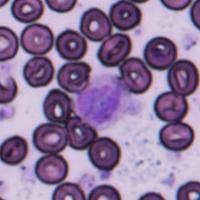N: (74, 74, 138, 130)
